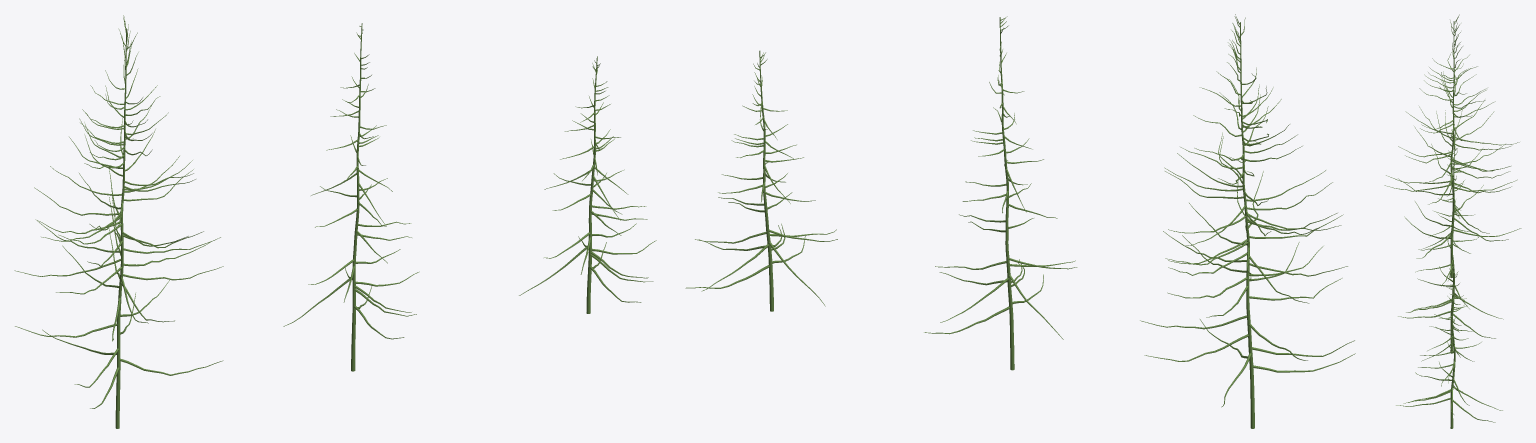
Rendered from fir_sapling_medium_1k.fbx.
The picture shows the model from 3 angles, left to right: view 1: azimuth 30°, elevation 25°; view 2: azimuth 150°, elevation 25°; view 3: azimuth 270°, elevation 25°; orthographic projection. The views are drawn at different scales.
Visible parts, largest first — view 1: fir_sapling_medium_a, fir_sapling_medium_b, fir_sapling_medium_c; view 2: fir_sapling_medium_a, fir_sapling_medium_b, fir_sapling_medium_c; view 3: fir_sapling_medium_a, fir_sapling_medium_b, fir_sapling_medium_c.
Boxes of the visible parts, x1,y1,x2,y2 form: fir_sapling_medium_a: (14, 15, 223, 428); fir_sapling_medium_b: (283, 23, 419, 371); fir_sapling_medium_c: (519, 56, 656, 313); fir_sapling_medium_a: (1140, 14, 1355, 428); fir_sapling_medium_b: (924, 16, 1077, 370); fir_sapling_medium_c: (685, 50, 837, 311); fir_sapling_medium_a: (1384, 14, 1521, 277); fir_sapling_medium_b: (1398, 129, 1503, 353); fir_sapling_medium_c: (1396, 265, 1502, 428).
Size of the model in its own units: 1323 by 826 by 386.
